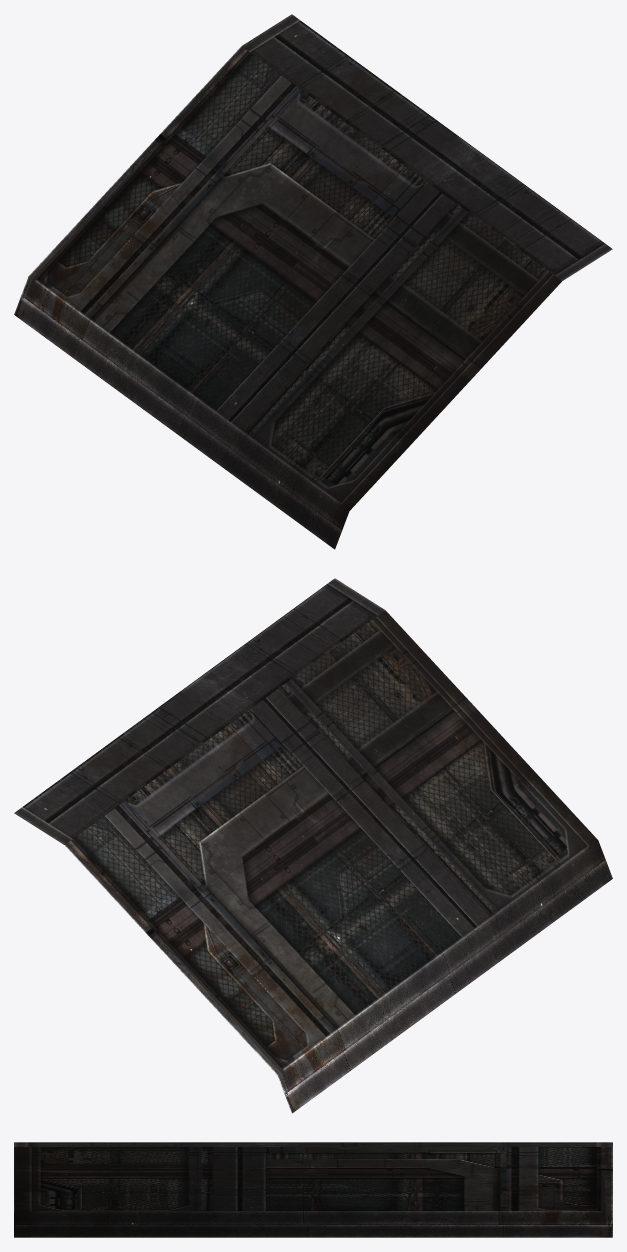
The model's file is Wall_H_DarkBlock_00.fbx.
3 renders of one model, top to bottom at view 1: azimuth 30°, elevation 25°; view 2: azimuth 150°, elevation 25°; view 3: azimuth 270°, elevation 25°, orthographic. The views are drawn at different scales.
Parts seen in each view (by area): view 1: Wall_H_DarkBlock_00; view 2: Wall_H_DarkBlock_00; view 3: Wall_H_DarkBlock_00.
Part boxes in pixels (<box>): Wall_H_DarkBlock_00: <box>14,14,612,549</box>; Wall_H_DarkBlock_00: <box>14,578,612,1113</box>; Wall_H_DarkBlock_00: <box>14,1142,612,1237</box>.
Bounding box in the file's own units: 500 × 400 × 1000.
1 material, 1 textured.
